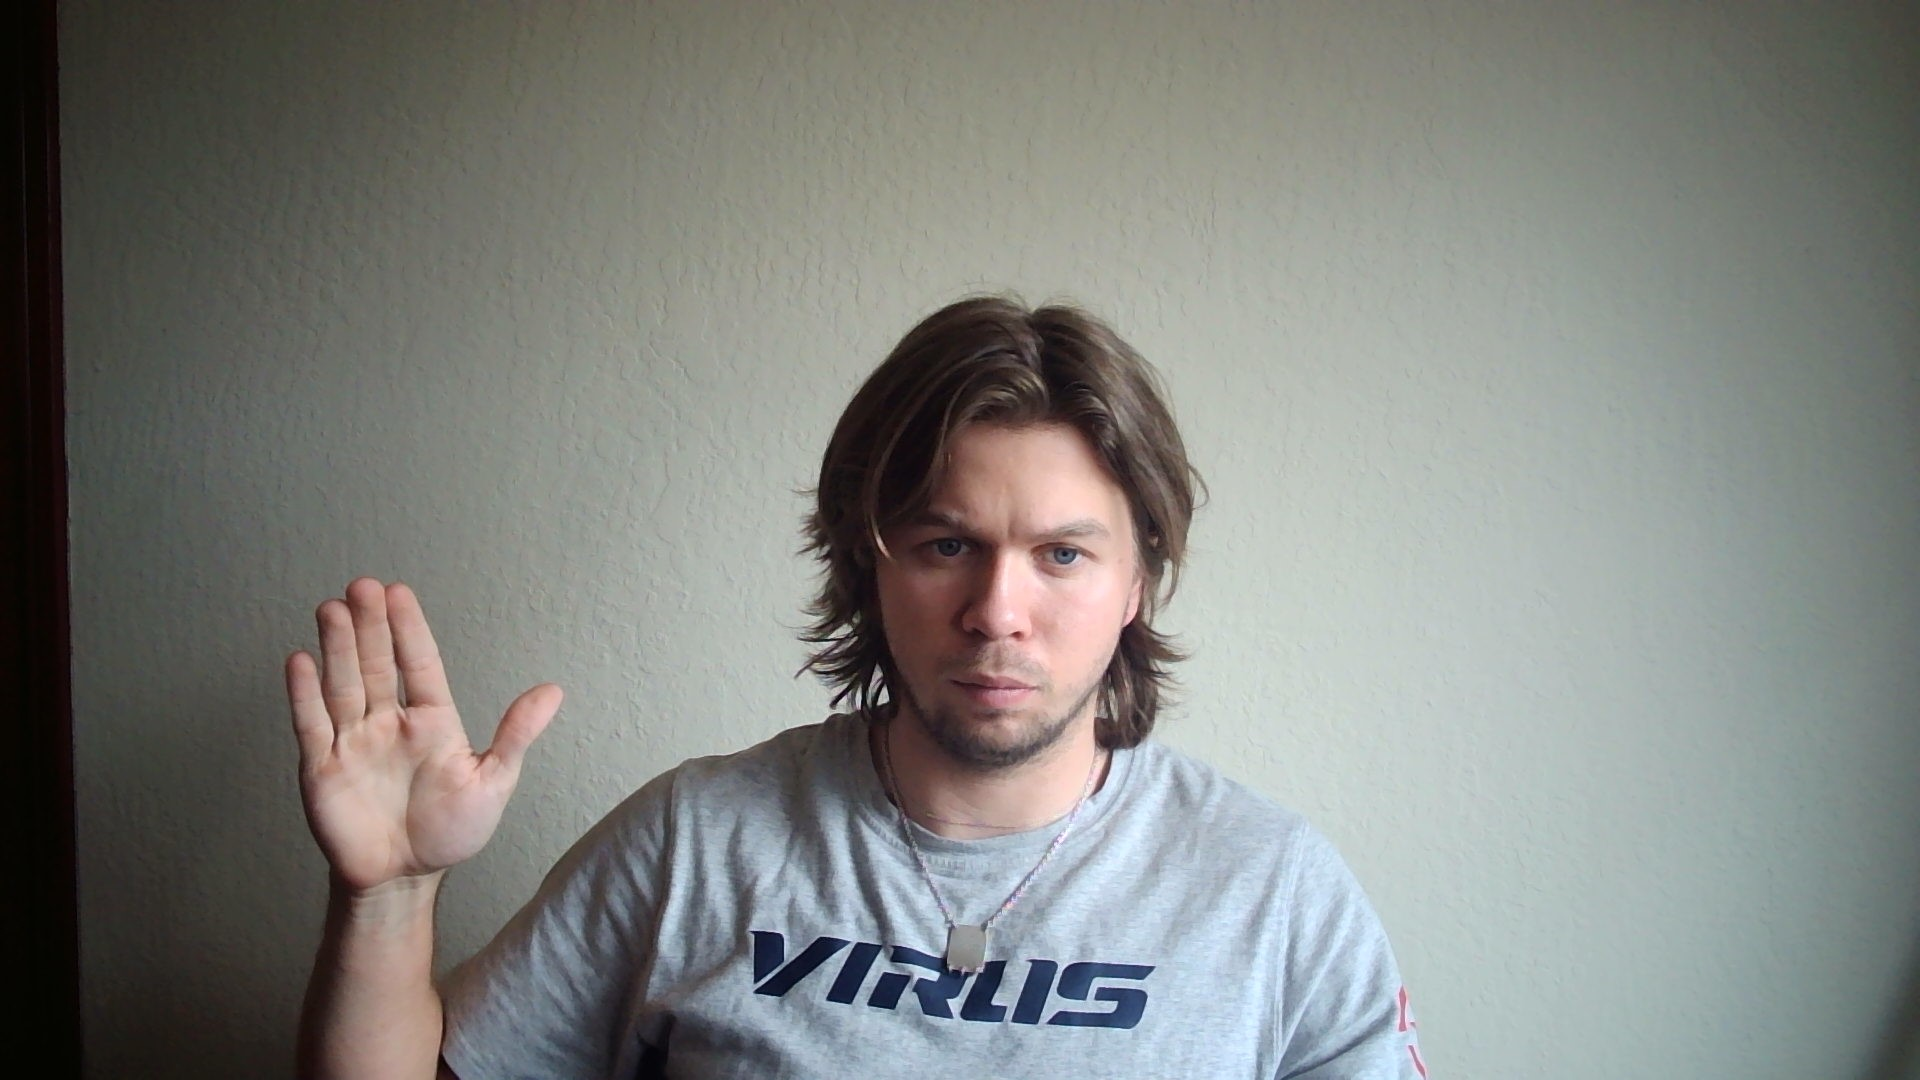hello: (287, 578, 564, 891)
